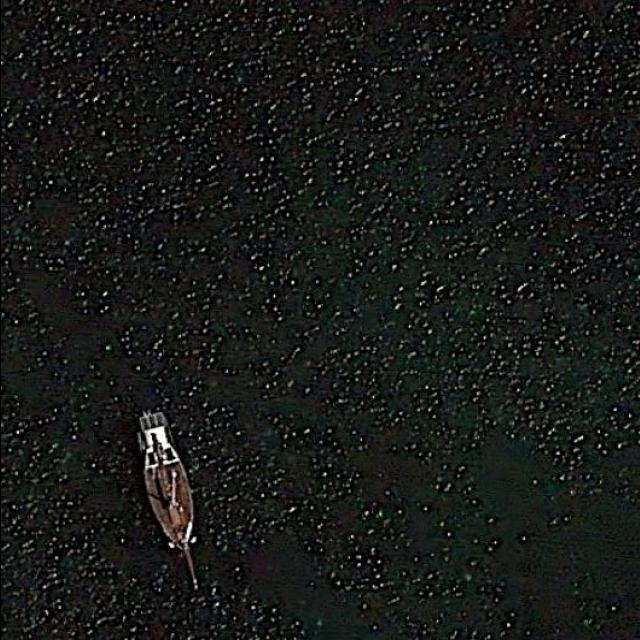ship: (130, 409, 200, 592)
